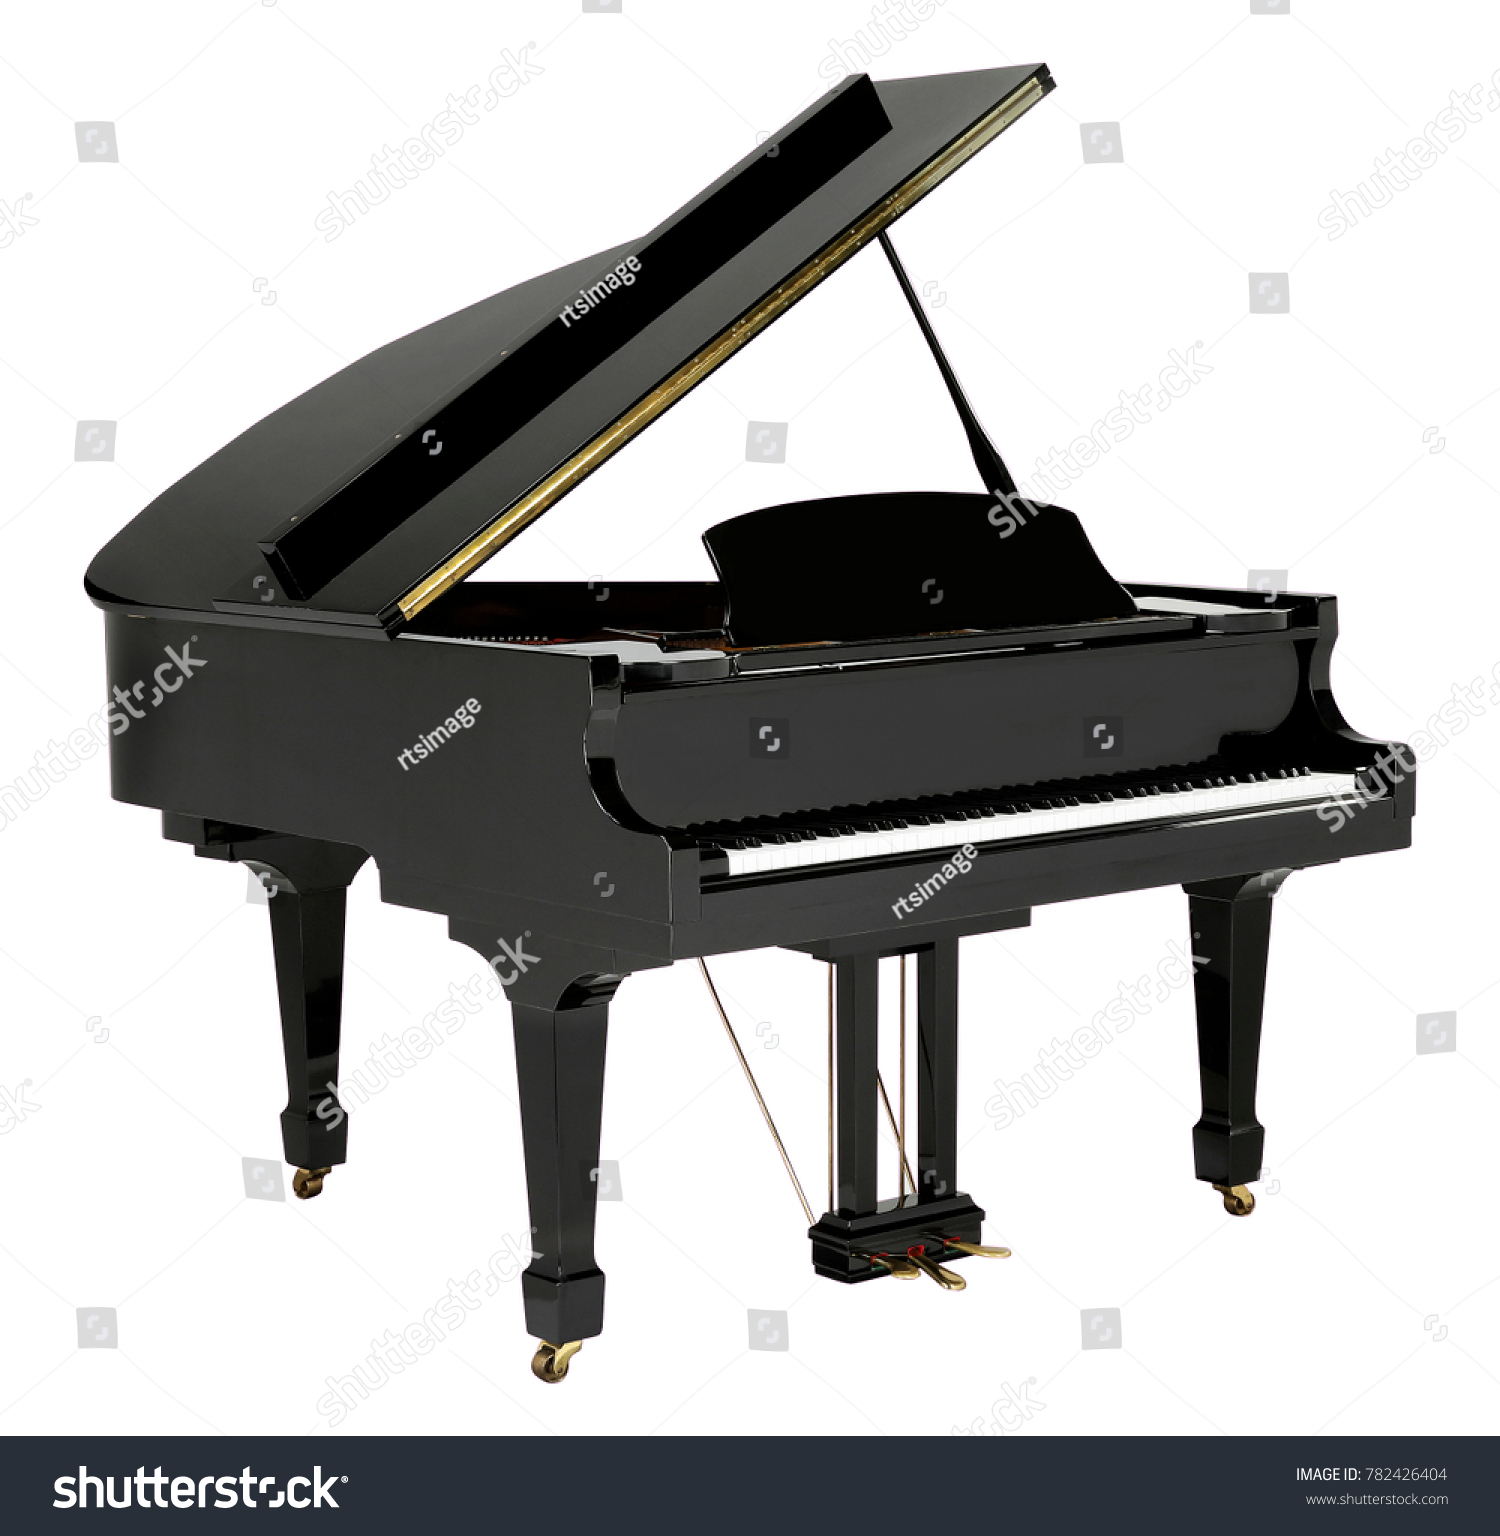Piano: (51, 38, 1500, 1293)
